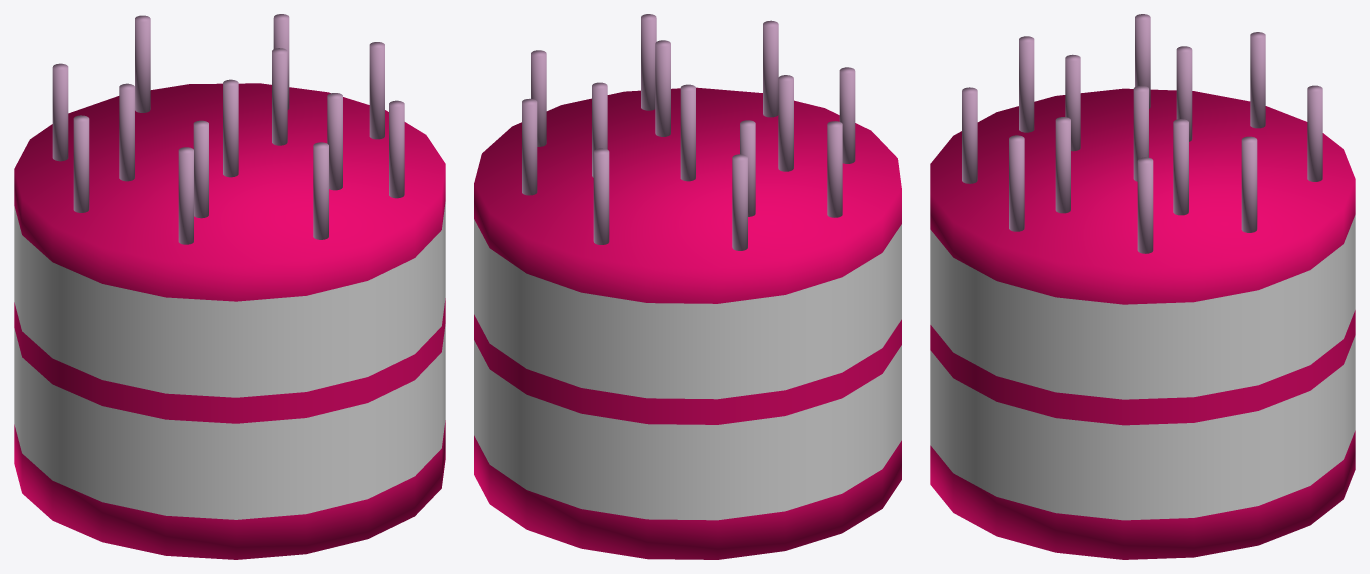
File: cake.fbx
3 views of the same model, side by side, from view 1: azimuth 30°, elevation 25°; view 2: azimuth 150°, elevation 25°; view 3: azimuth 270°, elevation 25° (orthographic).
Visible parts, largest first — view 1: Cylinder; view 2: Cylinder; view 3: Cylinder.
Part boxes in pixels (<box>): Cylinder: <box>14,14,445,559</box>; Cylinder: <box>474,14,901,559</box>; Cylinder: <box>930,14,1355,559</box>.
Size of the model in its own units: 199 by 196 by 199.
